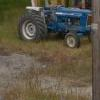Tractor: (15, 3, 100, 55)
